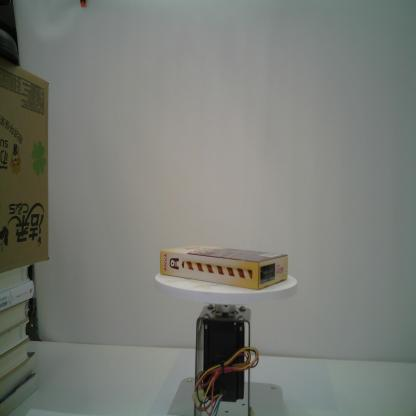Dessert: (158, 241, 290, 292)
